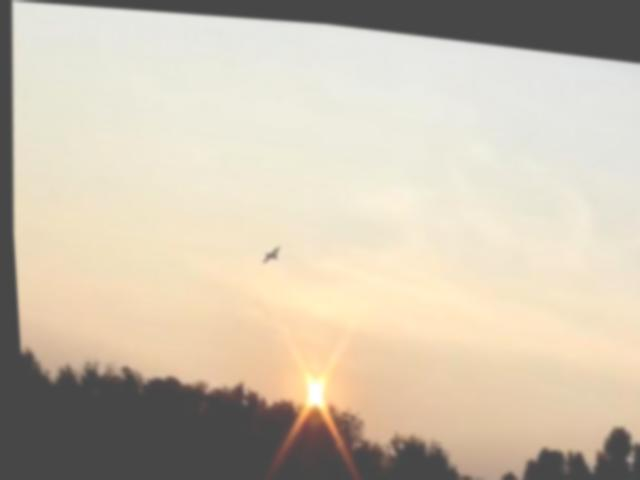iha: (260, 242, 276, 260)
